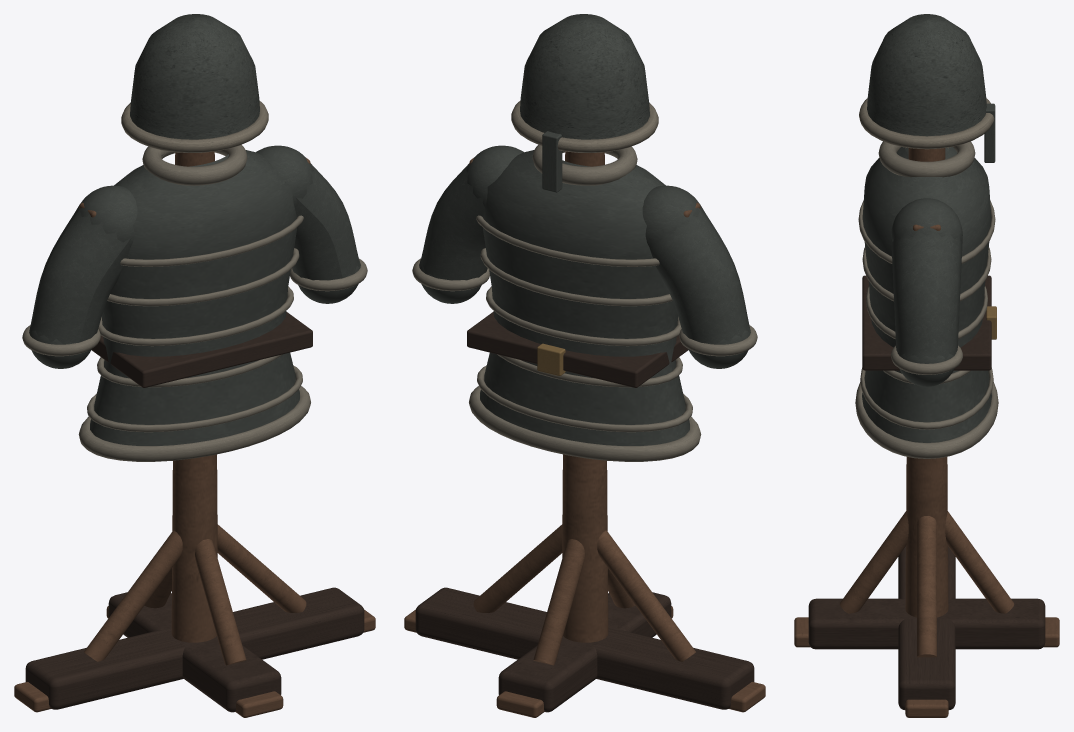
The model's file is armor_stand.glb.
3 views of the same model, side by side, from view 1: azimuth 30°, elevation 25°; view 2: azimuth 150°, elevation 25°; view 3: azimuth 270°, elevation 25° (orthographic). The views are drawn at different scales.
Visible parts, largest first — view 1: armor_stand; view 2: armor_stand; view 3: armor_stand.
Part boxes in pixels (bbox=[...]): armor_stand: bbox=[14, 14, 375, 717]; armor_stand: bbox=[404, 14, 765, 717]; armor_stand: bbox=[794, 14, 1059, 717].
Bounding box in the file's own units: 1 × 1.8 × 0.7.
Materials: 1 (1 with a texture image).
